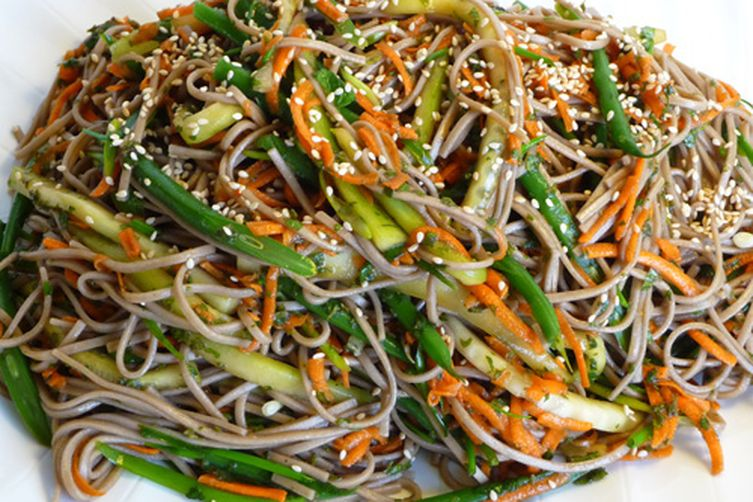Soba: (8, 8, 753, 488)
